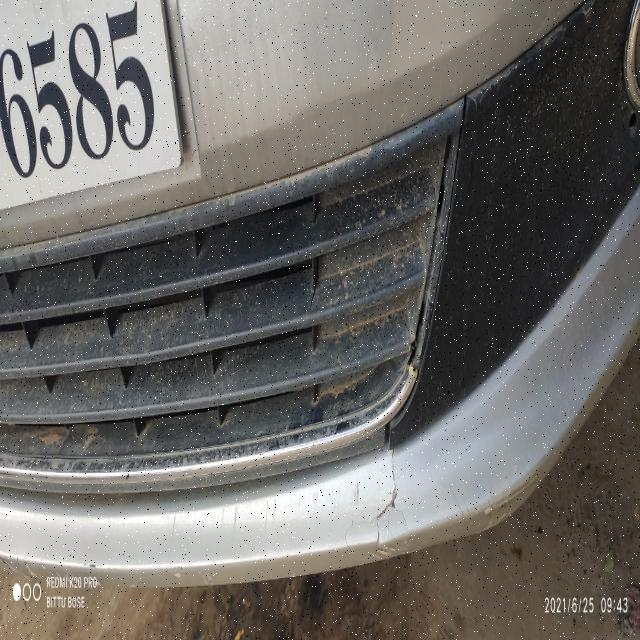front-bumper-dent: (99, 4, 558, 593)
